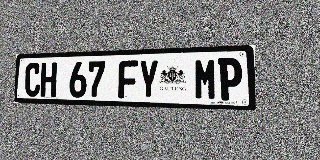6: (69, 61, 87, 98)
7: (87, 61, 105, 98)
C: (24, 63, 41, 97)
F: (118, 60, 138, 99)
H: (40, 62, 57, 97)
M: (194, 58, 217, 100)
P: (218, 57, 242, 101)
Y: (138, 60, 159, 99)
